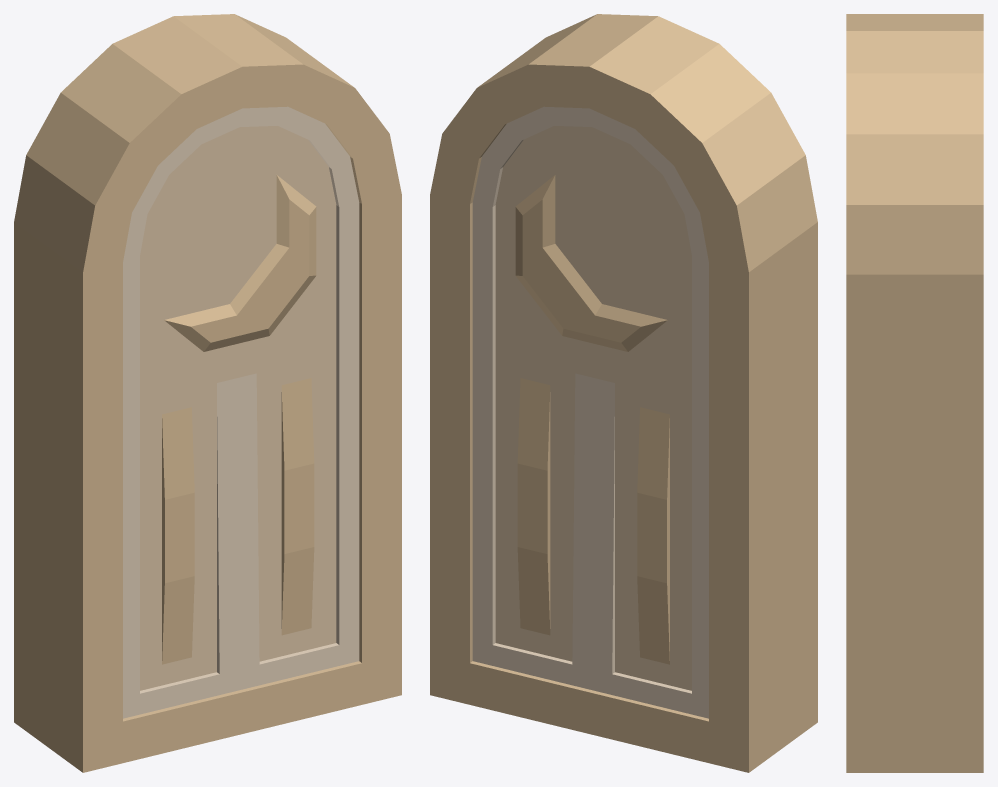
File: temple_Wall_Straight_Door_Moon.glb
3 views of the same model, side by side, from view 1: azimuth 30°, elevation 25°; view 2: azimuth 150°, elevation 25°; view 3: azimuth 270°, elevation 25° (orthographic).
Parts seen in each view (by area): view 1: object1; view 2: object1; view 3: object1.
Boxes of the visible parts, x1,y1,x2,y2 form: object1: [14, 14, 401, 772]; object1: [430, 14, 817, 772]; object1: [846, 14, 983, 772].
Size of the model in its own units: 0.8 by 1.6 by 0.3.
